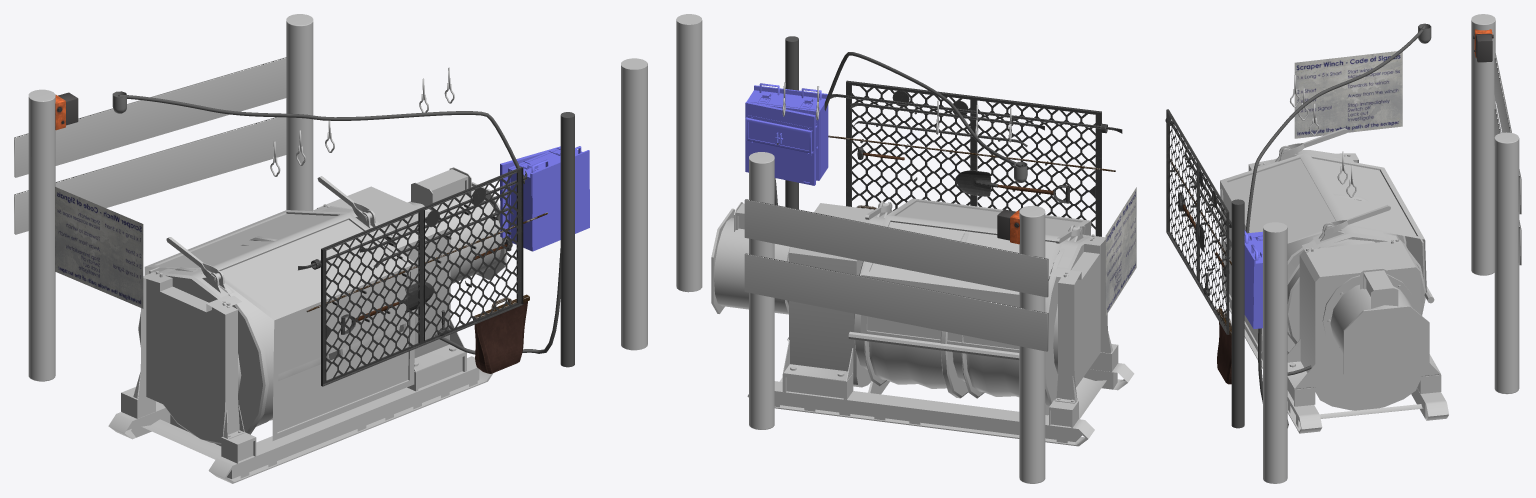
Rendered from Top Guley Winch.fbx.
The picture shows the model from 3 angles, left to right: view 1: azimuth 30°, elevation 25°; view 2: azimuth 150°, elevation 25°; view 3: azimuth 270°, elevation 25°; orthographic projection. The views are drawn at different scales.
Parts seen in each view (by area): view 1: Winch_004, Wood_barricades_016, Winch_007, Tool_rack_001__3_, Cylinder_005, Code_of_Signals, Cylinder_012, Power_box_not_locked__Hazard_, Power_Box, BezierCurve_017, Signaling_Device_054; view 2: Winch_004, Wood_barricades_016, Tool_rack_001__3_, Winch_007, Cylinder_005, Power_box_not_locked__Hazard_, Code_of_Signals, Power_Box, BezierCurve_017, Cylinder_012, Signaling_Device_054; view 3: Winch_004, Wood_barricades_016, Winch_007, Code_of_Signals, Tool_rack_001__3_, Cylinder_005, Cylinder_012, Power_box_not_locked__Hazard_, BezierCurve_017, Power_Box, Signaling_Device_054, BezierCurve_005.
Boxes of the visible parts, x1,y1,x2,y2 form: Winch_004: [108, 167, 506, 483]; Wood_barricades_016: [14, 14, 313, 381]; Winch_007: [144, 210, 415, 440]; Tool_rack_001__3_: [298, 167, 547, 386]; Cylinder_005: [621, 58, 647, 350]; Code_of_Signals: [55, 187, 143, 308]; Cylinder_012: [560, 112, 574, 367]; Power_box_not_locked__Hazard_: [500, 146, 589, 251]; Power_Box: [507, 146, 589, 251]; BezierCurve_017: [118, 94, 524, 183]; Signaling_Device_054: [55, 92, 78, 130]; Winch_004: [711, 201, 1134, 446]; Wood_barricades_016: [744, 152, 1048, 483]; Tool_rack_001__3_: [828, 80, 1122, 236]; Winch_007: [860, 198, 1091, 352]; Cylinder_005: [676, 14, 702, 292]; Power_box_not_locked__Hazard_: [745, 84, 826, 185]; Code_of_Signals: [1105, 187, 1136, 315]; Power_Box: [746, 83, 828, 180]; BezierCurve_017: [824, 52, 1022, 167]; Cylinder_012: [785, 36, 798, 209]; Signaling_Device_054: [997, 209, 1019, 244]; Winch_004: [1224, 128, 1448, 433]; Wood_barricades_016: [1471, 14, 1521, 394]; Winch_007: [1220, 153, 1426, 360]; Code_of_Signals: [1294, 51, 1402, 138]; Tool_rack_001__3_: [1165, 109, 1231, 384]; Cylinder_005: [1263, 222, 1287, 483]; Cylinder_012: [1231, 199, 1244, 428]; Power_box_not_locked__Hazard_: [1244, 233, 1262, 328]; BezierCurve_017: [1245, 26, 1425, 233]; Power_Box: [1244, 230, 1262, 328]; Signaling_Device_054: [1473, 29, 1493, 62]; BezierCurve_005: [1258, 328, 1311, 427].
Bounding box in the file's own units: 342 × 194 × 226.
